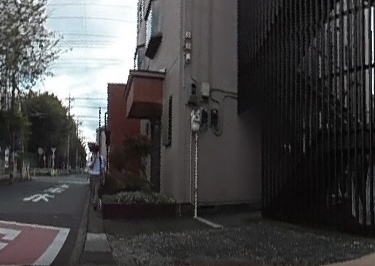person: (87, 141, 103, 205)
